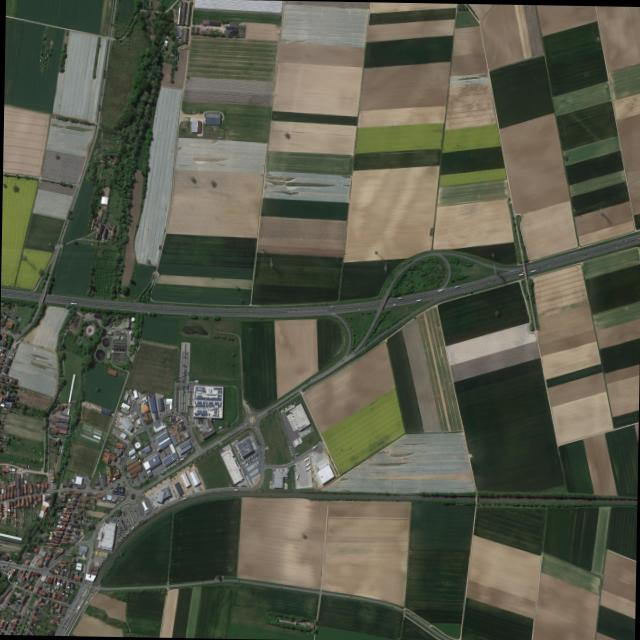storage-tank: (84, 323, 94, 334), (95, 348, 105, 359), (101, 335, 110, 346)
